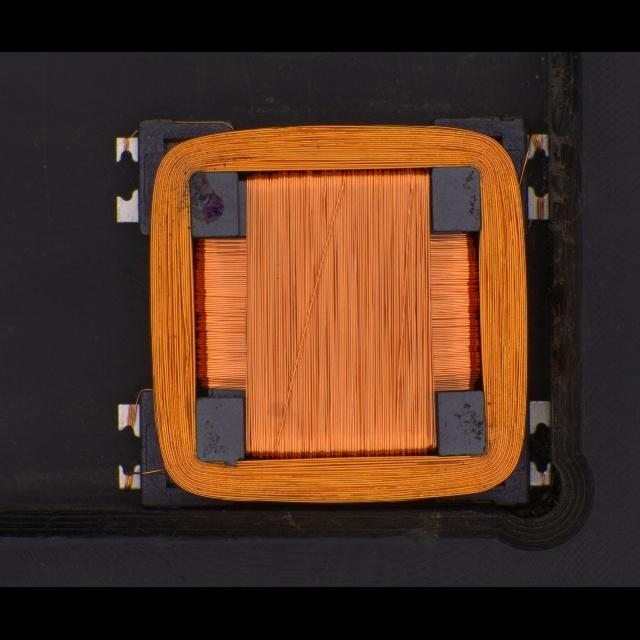Winding_Z: (133, 119, 533, 506)
